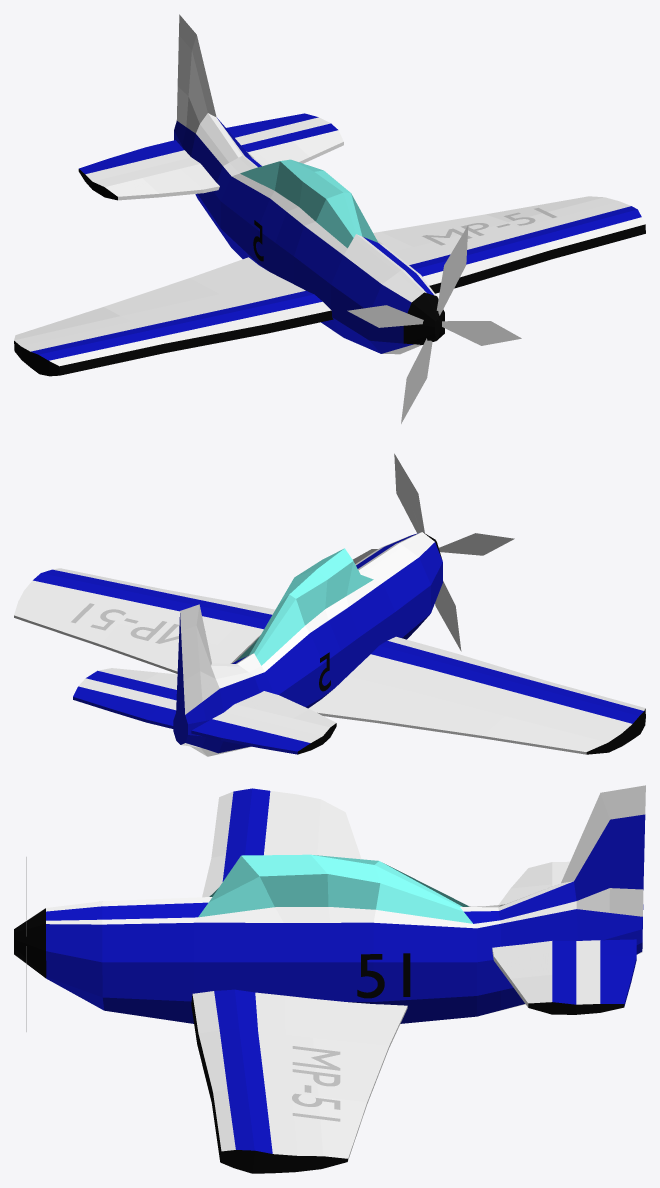
File: avion.obj
3 renders of one model, top to bottom at view 1: azimuth 30°, elevation 25°; view 2: azimuth 150°, elevation 25°; view 3: azimuth 270°, elevation 25°, orthographic. The views are drawn at different scales.
Visible parts, largest first — view 1: Aile, Coqpit, Aileron, Hélice, Text; view 2: Aile, Coqpit, Aileron, Hélice, Text; view 3: Coqpit, Aile, Aileron, Text, Text.001.
Part boxes in pixels (bbox=[...]): Aile: bbox=[14, 196, 645, 376]; Coqpit: bbox=[174, 14, 444, 354]; Aileron: bbox=[78, 113, 343, 200]; Hélice: bbox=[347, 225, 521, 423]; Text: bbox=[422, 207, 556, 245]; Aile: bbox=[14, 568, 645, 754]; Coqpit: bbox=[173, 532, 442, 756]; Aileron: bbox=[73, 668, 336, 754]; Hélice: bbox=[353, 453, 514, 651]; Text: bbox=[71, 603, 205, 643]; Coqpit: bbox=[14, 785, 645, 1023]; Aile: bbox=[191, 788, 407, 1173]; Aileron: bbox=[492, 861, 636, 1014]; Text: bbox=[292, 1046, 340, 1121]; Text.001: bbox=[357, 953, 410, 998].
Bounding box in the file's own units: 12.08 × 4.19 × 8.94.
